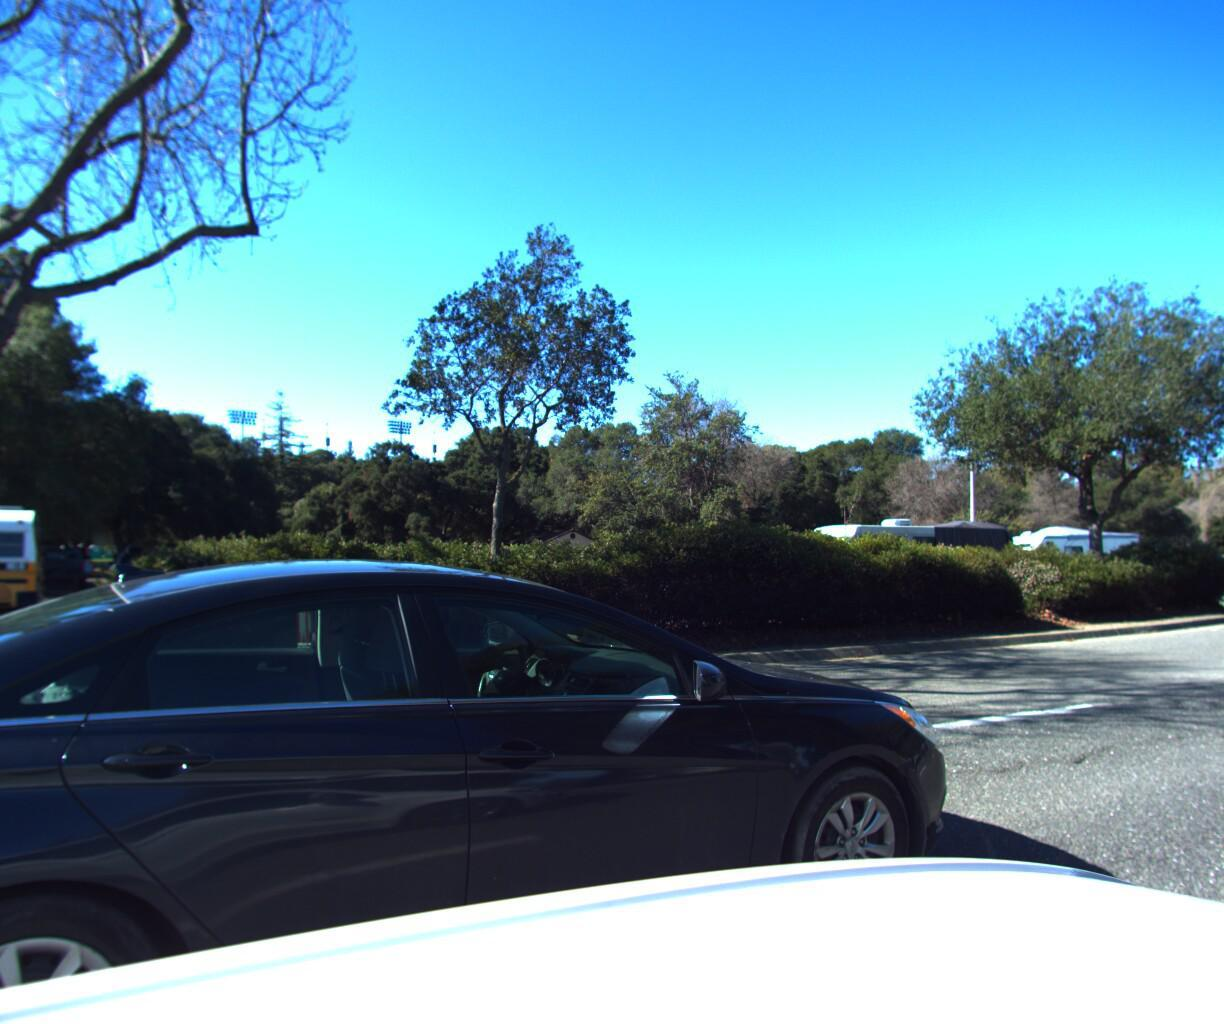bus: (0, 458, 52, 668)
car: (0, 557, 983, 1024)
other_vehicle: (793, 510, 1011, 603), (968, 521, 1142, 598)
